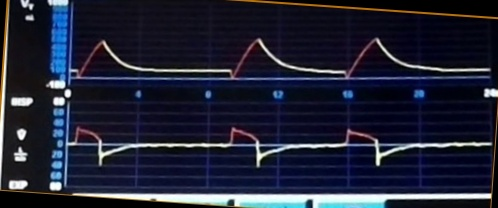Flow: (69, 117, 490, 175)
Leakage Volume: (71, 32, 490, 86)
